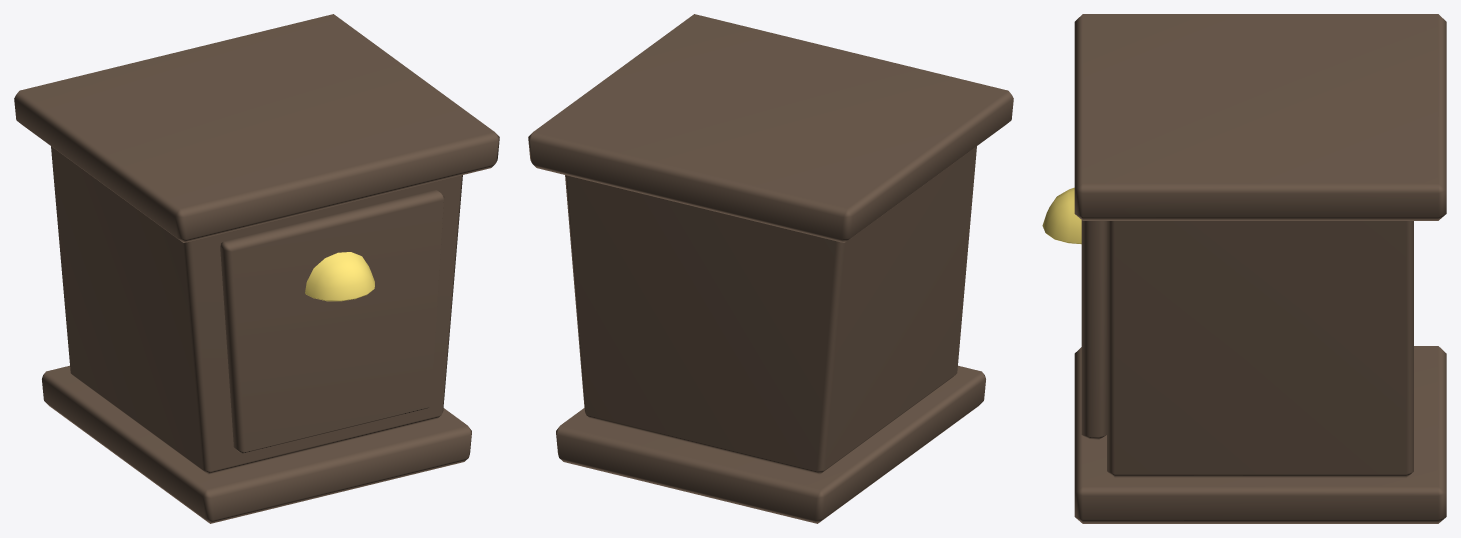
Rendered from Cabinet_13.glb.
3 renders of one model, left to right at view 1: azimuth 30°, elevation 25°; view 2: azimuth 150°, elevation 25°; view 3: azimuth 270°, elevation 25°, orthographic. The views are drawn at different scales.
Visible parts, largest first — view 1: Cabinet_13; view 2: Cabinet_13; view 3: Cabinet_13.
Boxes of the visible parts, x1=… form: Cabinet_13: x1=14, y1=14, x2=499, y2=523; Cabinet_13: x1=528, y1=14, x2=1013, y2=523; Cabinet_13: x1=1042, y1=14, x2=1446, y2=523.
Bounding box in the file's own units: 0.8989 × 0.8537 × 0.8765.
Materials: 1 (1 with a texture image).
